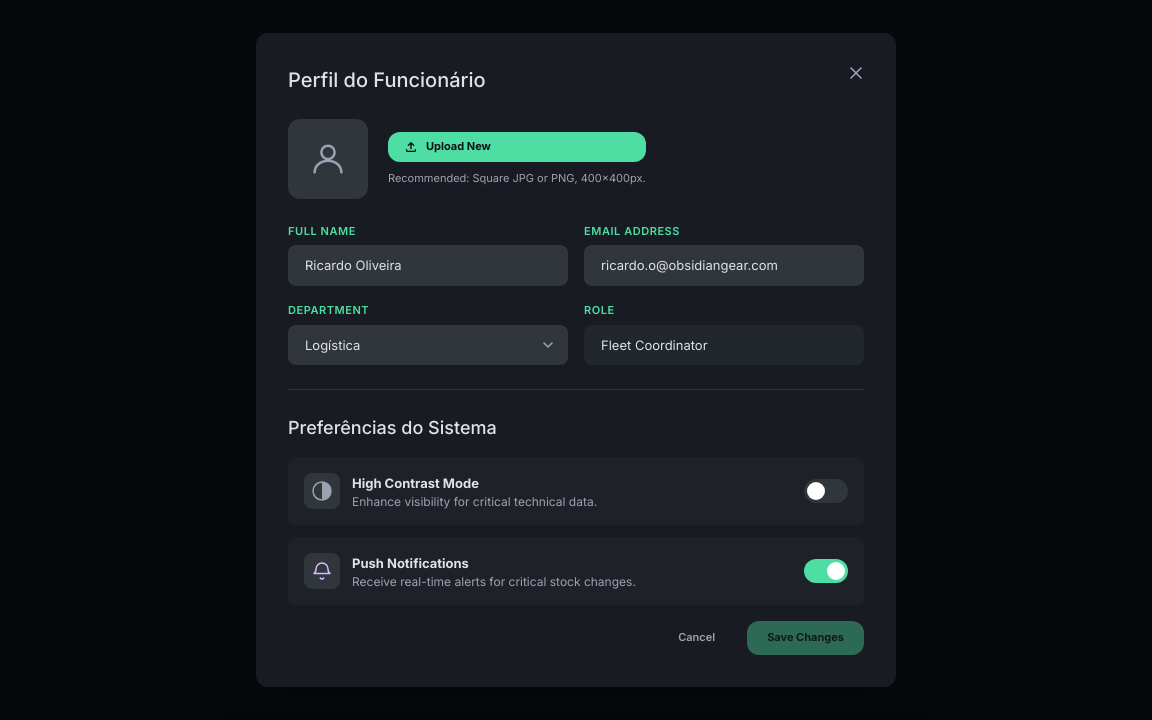
Test: EmployeeProfileModal — 5.2 High Contrast Mode › alterar highContrast habilita Save Changes (dirty check integrado)
Step 1. Click the switch named "high contrast mode" → (826, 492), box [804, 480, 848, 504]
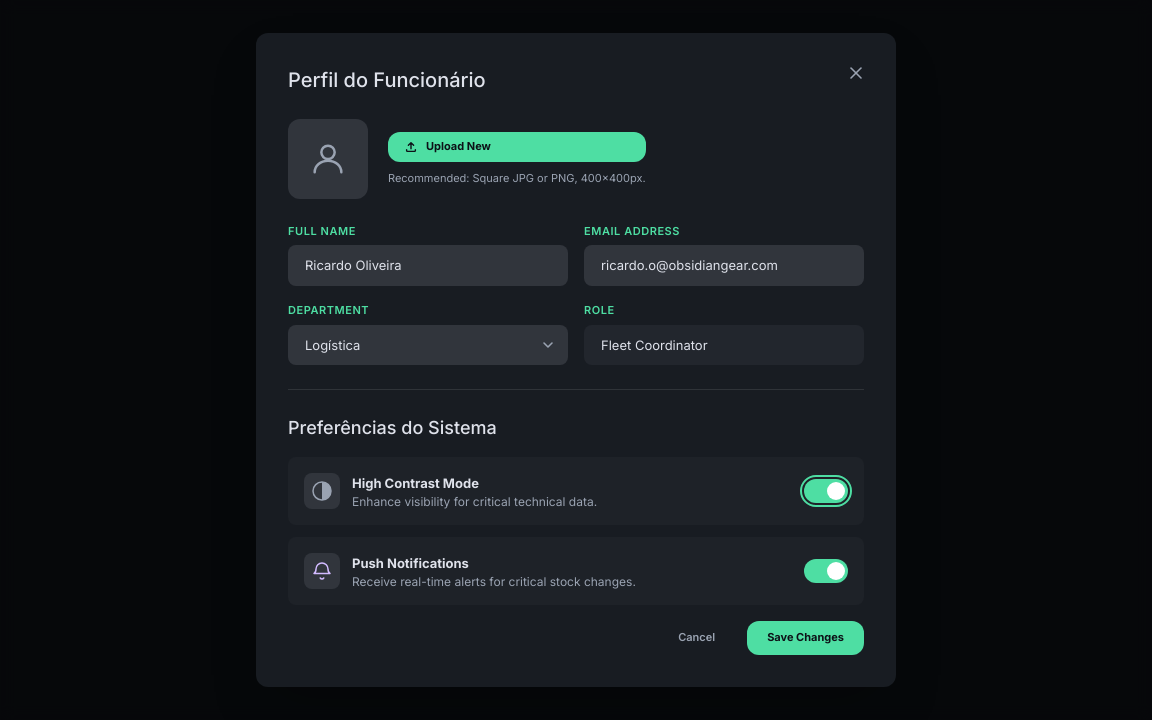
Check: the button with aria-label "salvar alterações" is enabled, box [747, 622, 864, 655]
